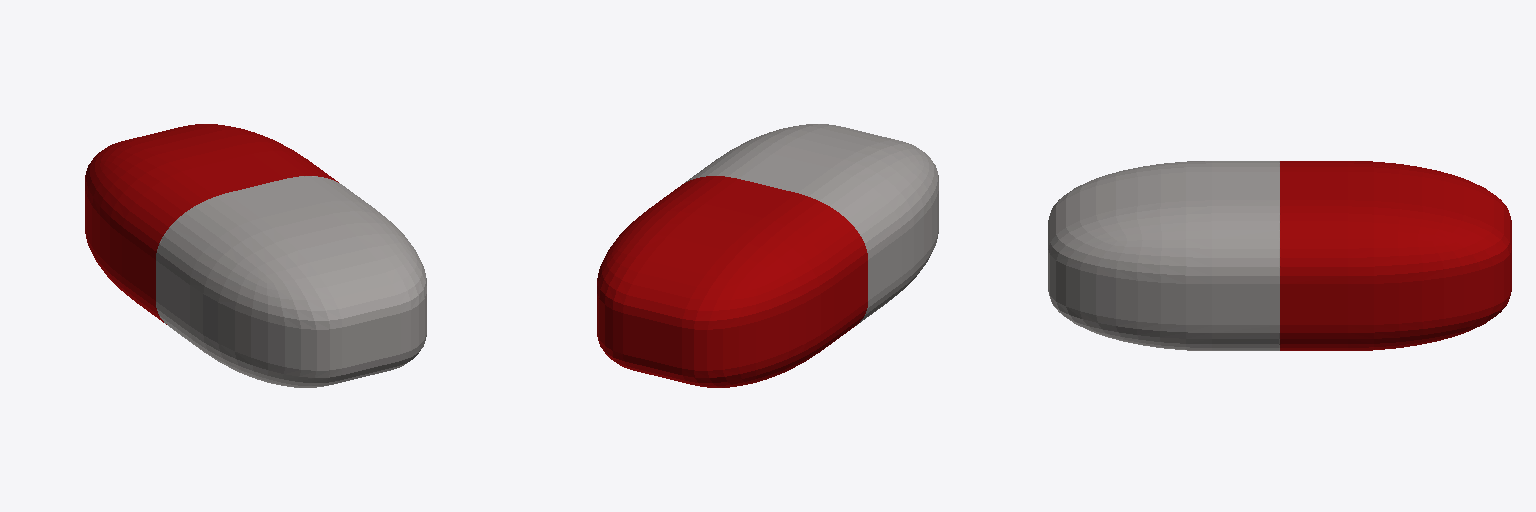
The model's file is PilleRed.obj.
3 views of the same model, side by side, from view 1: azimuth 30°, elevation 25°; view 2: azimuth 150°, elevation 25°; view 3: azimuth 270°, elevation 25° (orthographic).
Visible parts, largest first — view 1: Cube; view 2: Cube; view 3: Cube.
Part boxes in pixels (bbox=[...]): Cube: bbox=[85, 124, 426, 387]; Cube: bbox=[597, 124, 938, 387]; Cube: bbox=[1048, 161, 1511, 350].
Bounding box in the file's own units: 0.3 × 0.2 × 0.6.